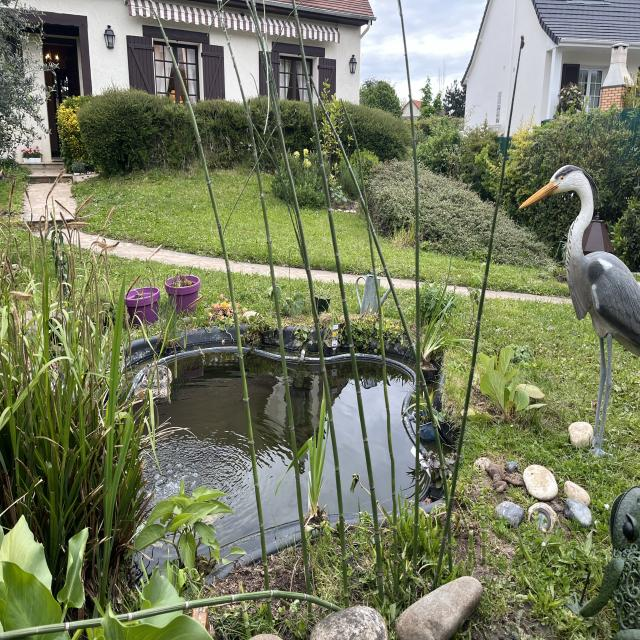Heron: (511, 157, 640, 473)
